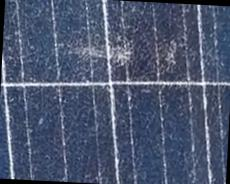Crack: (0, 0, 229, 183), (94, 22, 150, 76)
